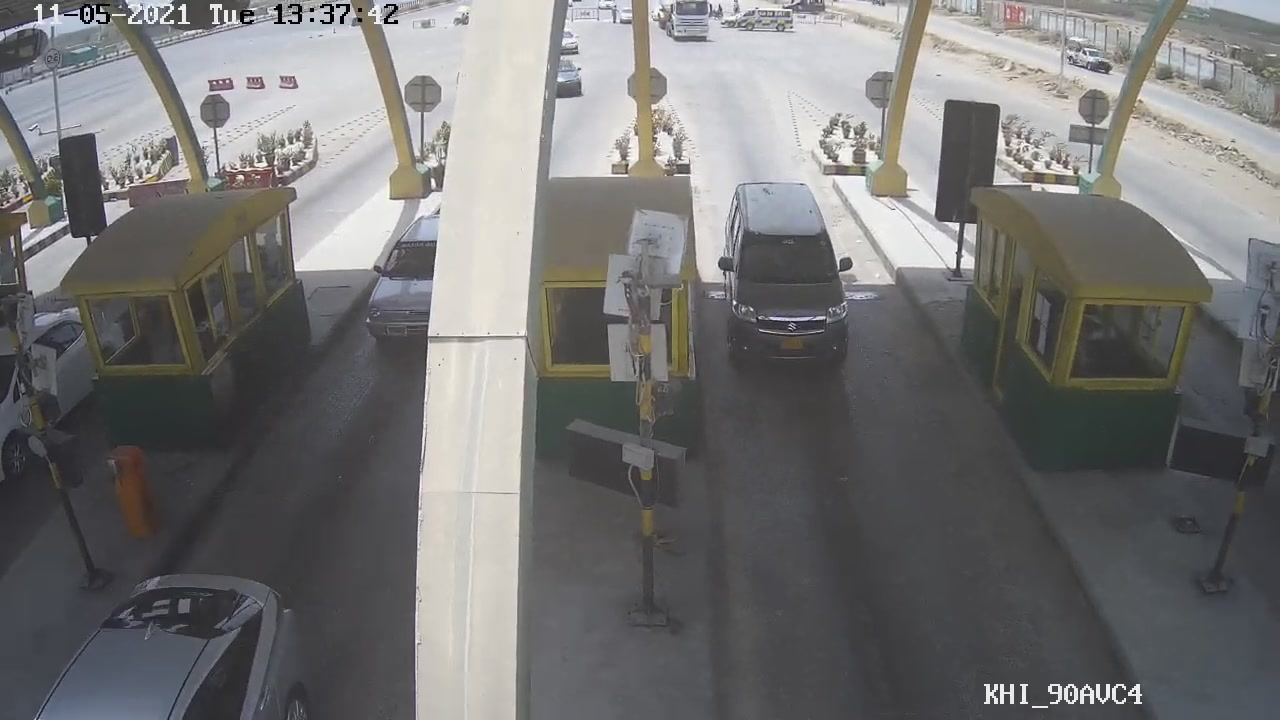F1: (710, 176, 859, 374)
